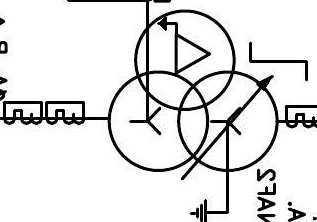11522_tx_ynyn0d1: (106, 8, 280, 173)
